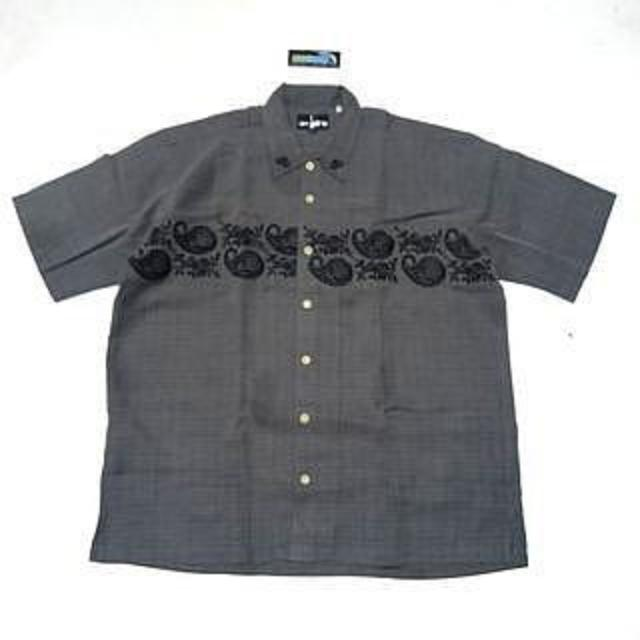SHIRT: (0, 66, 623, 583)
